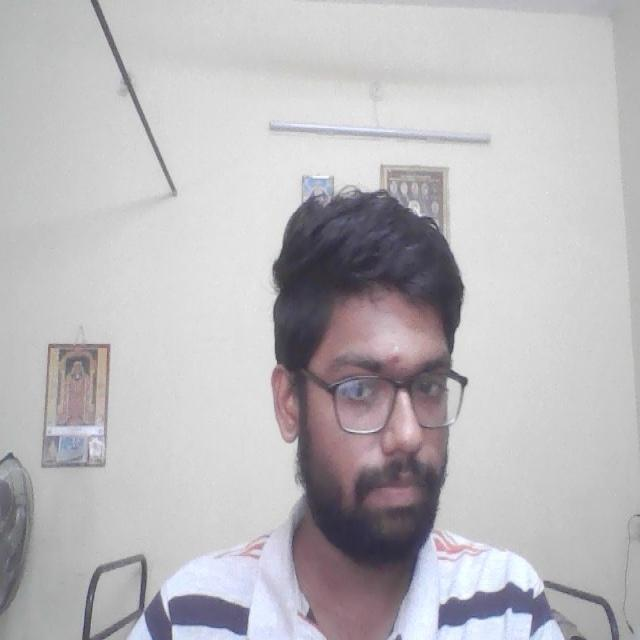Focused: (336, 306, 474, 536)
